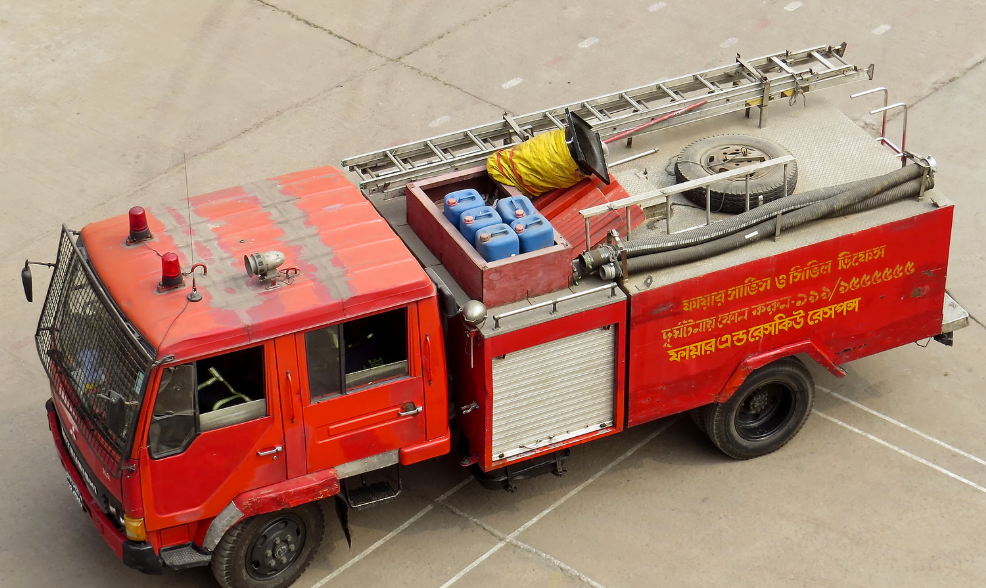Fire truck: (16, 35, 962, 581)
